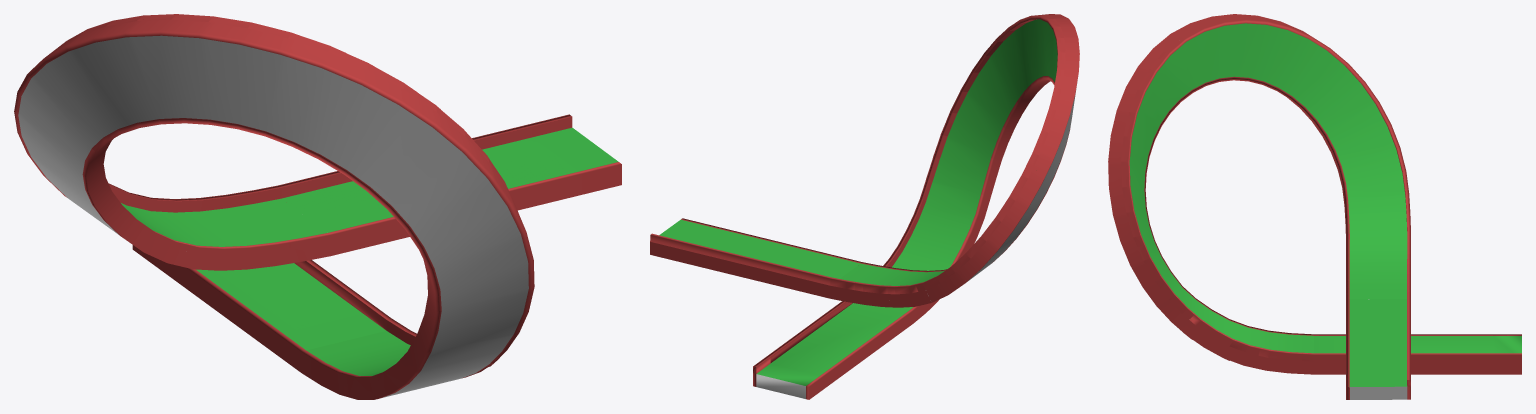
Rendered from 90_Loop.fbx.
3 renders of one model, left to right at view 1: azimuth 30°, elevation 25°; view 2: azimuth 150°, elevation 25°; view 3: azimuth 270°, elevation 25°, orthographic. The views are drawn at different scales.
Visible parts, largest first — view 1: tg_0027_Mlt_3; view 2: tg_0027_Mlt_3; view 3: tg_0027_Mlt_3.
Boxes of the visible parts, x1,y1,x2,y2 form: tg_0027_Mlt_3: [14, 14, 621, 399]; tg_0027_Mlt_3: [650, 14, 1079, 399]; tg_0027_Mlt_3: [1108, 14, 1521, 399].
Size of the model in its own units: 21003 by 15107 by 20425.
